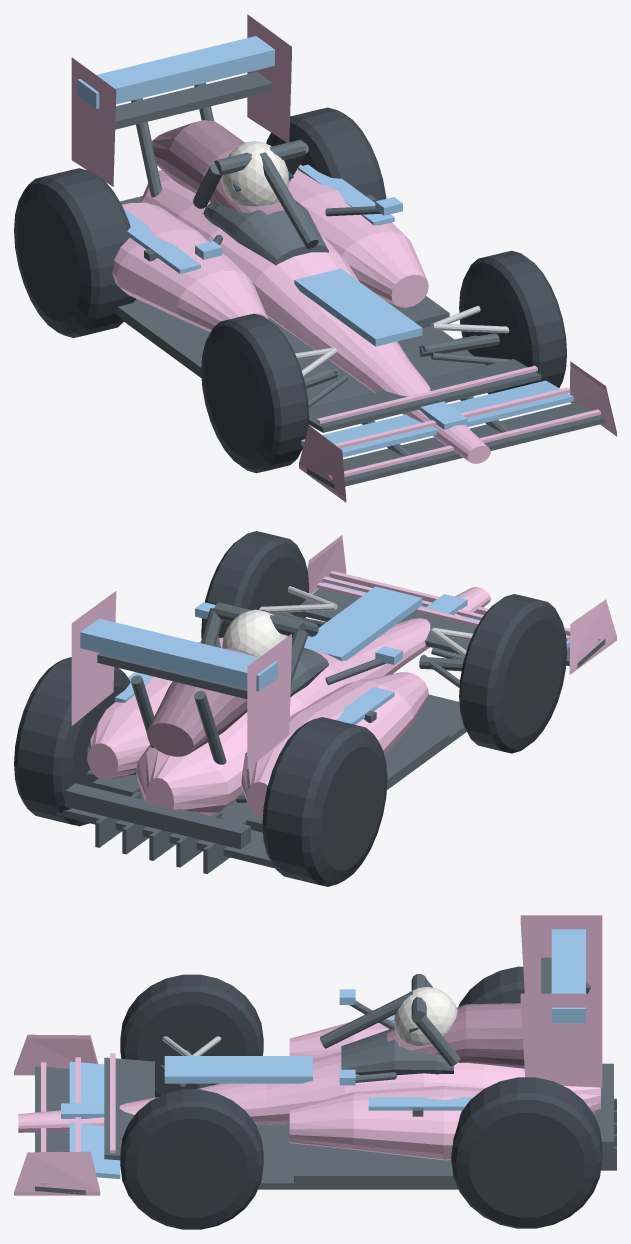
Rendered from alpine_high.glb.
3 renders of one model, top to bottom at view 1: azimuth 30°, elevation 25°; view 2: azimuth 150°, elevation 25°; view 3: azimuth 270°, elevation 25°, orthographic. The views are drawn at different scales.
Parts seen in each view (by area): view 1: BODY_paint, BODY_carbon, BODY_accent, RearLeftWheel_rubber, FrontLeftWheel_rubber, FrontRightWheel_rubber, RearRightWheel_rubber, BODY_paint_dark, BODY_helmet, BODY_metal; view 2: BODY_paint, BODY_carbon, RearLeftWheel_rubber, FrontLeftWheel_rubber, BODY_accent, RearRightWheel_rubber, FrontRightWheel_rubber, BODY_paint_dark, BODY_helmet, BODY_metal; view 3: BODY_paint, BODY_carbon, RearRightWheel_rubber, FrontRightWheel_rubber, BODY_accent, FrontLeftWheel_rubber, BODY_paint_dark, BODY_helmet, RearLeftWheel_rubber.
Part boxes in pixels (bbox=[...]): BODY_paint: bbox=[71, 14, 616, 502]; BODY_carbon: bbox=[115, 72, 604, 488]; BODY_accent: bbox=[77, 36, 573, 457]; RearLeftWheel_rubber: bbox=[14, 168, 135, 337]; FrontLeftWheel_rubber: bbox=[201, 313, 309, 473]; FrontRightWheel_rubber: bbox=[459, 250, 566, 394]; RearRightWheel_rubber: bbox=[266, 107, 386, 200]; BODY_paint_dark: bbox=[152, 120, 284, 214]; BODY_helmet: bbox=[221, 141, 289, 206]; BODY_metal: bbox=[295, 305, 509, 376]; BODY_paint: bbox=[71, 535, 616, 818]; BODY_carbon: bbox=[56, 576, 605, 873]; RearLeftWheel_rubber: bbox=[262, 717, 387, 886]; FrontLeftWheel_rubber: bbox=[459, 594, 566, 753]; BODY_accent: bbox=[80, 582, 569, 724]; RearRightWheel_rubber: bbox=[14, 657, 130, 826]; FrontRightWheel_rubber: bbox=[201, 531, 309, 638]; BODY_paint_dark: bbox=[147, 648, 257, 756]; BODY_helmet: bbox=[222, 609, 287, 657]; BODY_metal: bbox=[259, 586, 472, 657]; BODY_paint: bbox=[14, 915, 602, 1195]; BODY_carbon: bbox=[35, 957, 616, 1194]; RearRightWheel_rubber: bbox=[451, 1077, 602, 1228]; FrontRightWheel_rubber: bbox=[120, 1089, 263, 1229]; BODY_accent: bbox=[61, 929, 585, 1178]; FrontLeftWheel_rubber: bbox=[120, 974, 263, 1097]; BODY_paint_dark: bbox=[387, 1003, 524, 1068]; BODY_helmet: bbox=[393, 987, 457, 1045]; RearLeftWheel_rubber: bbox=[458, 966, 524, 1006].
Size of the model in its own units: 2.59 by 1.9 by 4.88.
